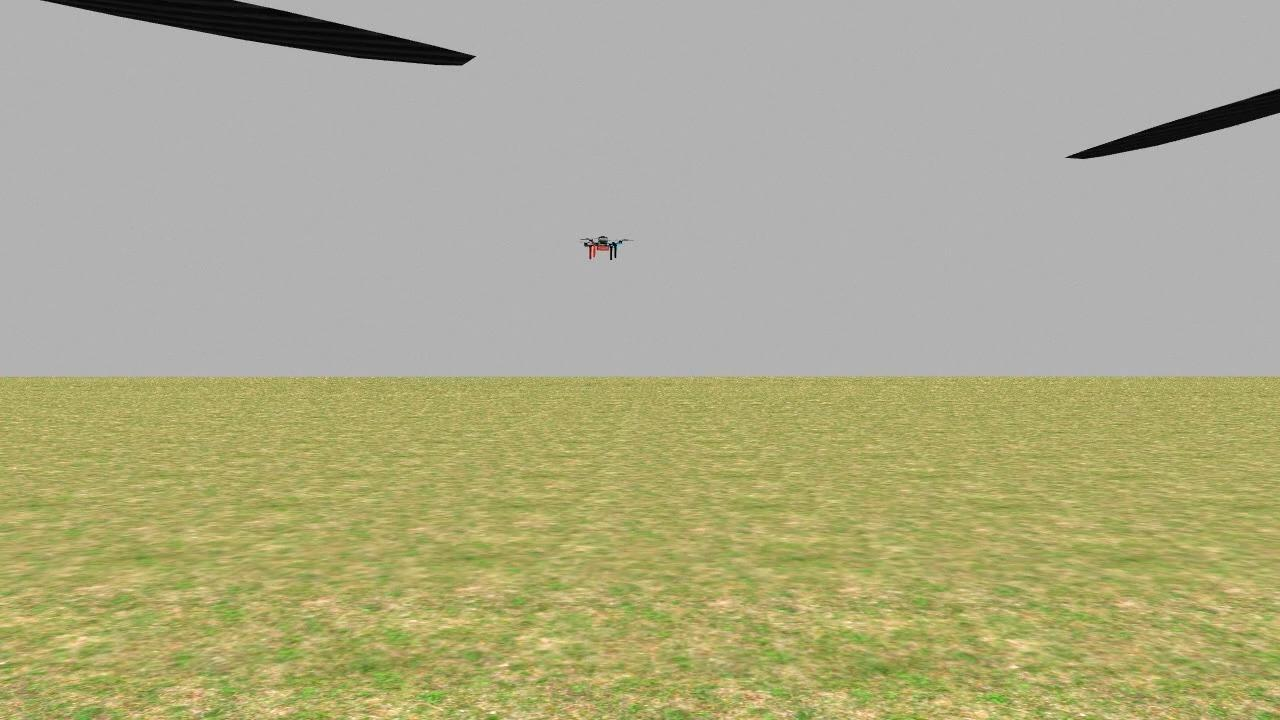UAV: (567, 221, 642, 271)
